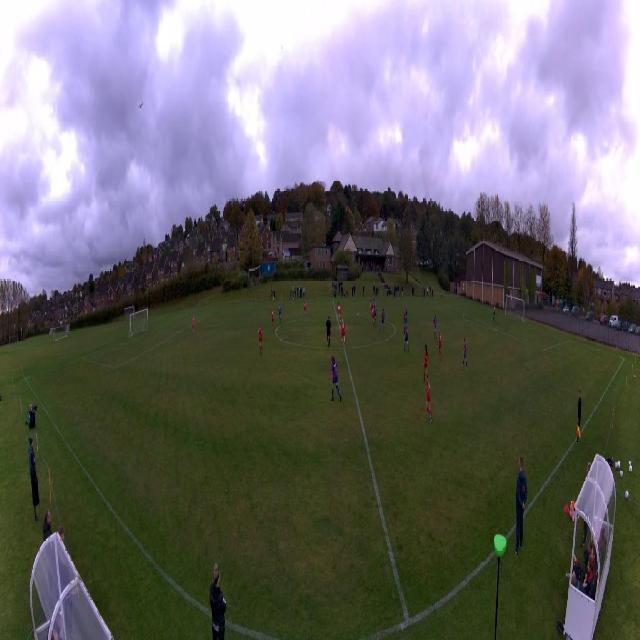ball: (357, 312, 359, 317)
player: (330, 356, 341, 403), (426, 372, 433, 424), (423, 343, 429, 380), (462, 339, 468, 370), (326, 316, 332, 347), (340, 320, 346, 347), (258, 322, 263, 354), (404, 322, 409, 351), (379, 310, 385, 332), (438, 330, 442, 361), (370, 306, 375, 327), (433, 313, 437, 339), (402, 310, 406, 335), (337, 303, 342, 322), (373, 302, 377, 324), (278, 303, 282, 324), (271, 309, 275, 329), (303, 300, 307, 317), (369, 299, 373, 316), (405, 302, 408, 320), (493, 305, 496, 323), (372, 295, 376, 307), (193, 316, 195, 335)
